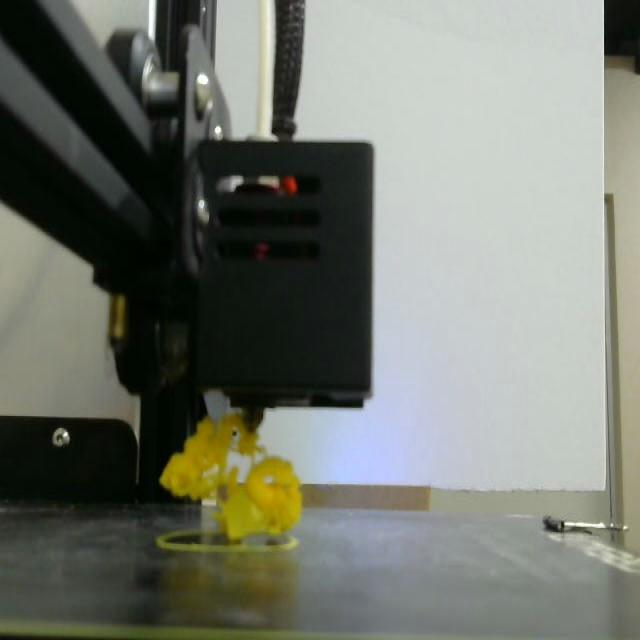spaghetti: (160, 413, 301, 541)
